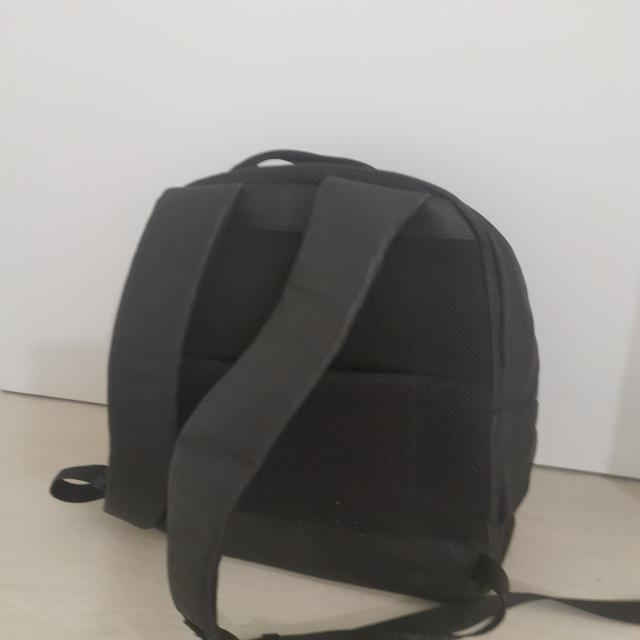backpack: (50, 148, 640, 640)
